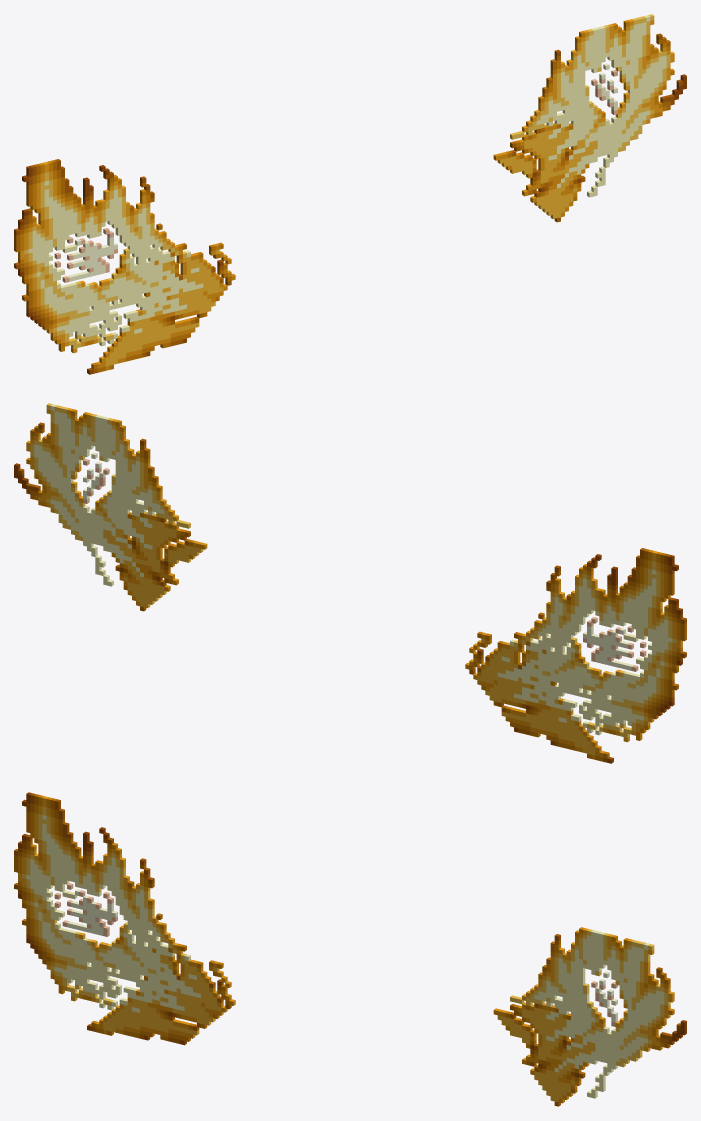
File: Fight_756_2_14_fx.obj
The picture shows the model from 3 angles, top to bottom: view 1: azimuth 30°, elevation 25°; view 2: azimuth 150°, elevation 25°; view 3: azimuth 330°, elevation 25°; orthographic projection.
Bounding box in the file's own units: 16.5 × 5.2 × 0.1.
